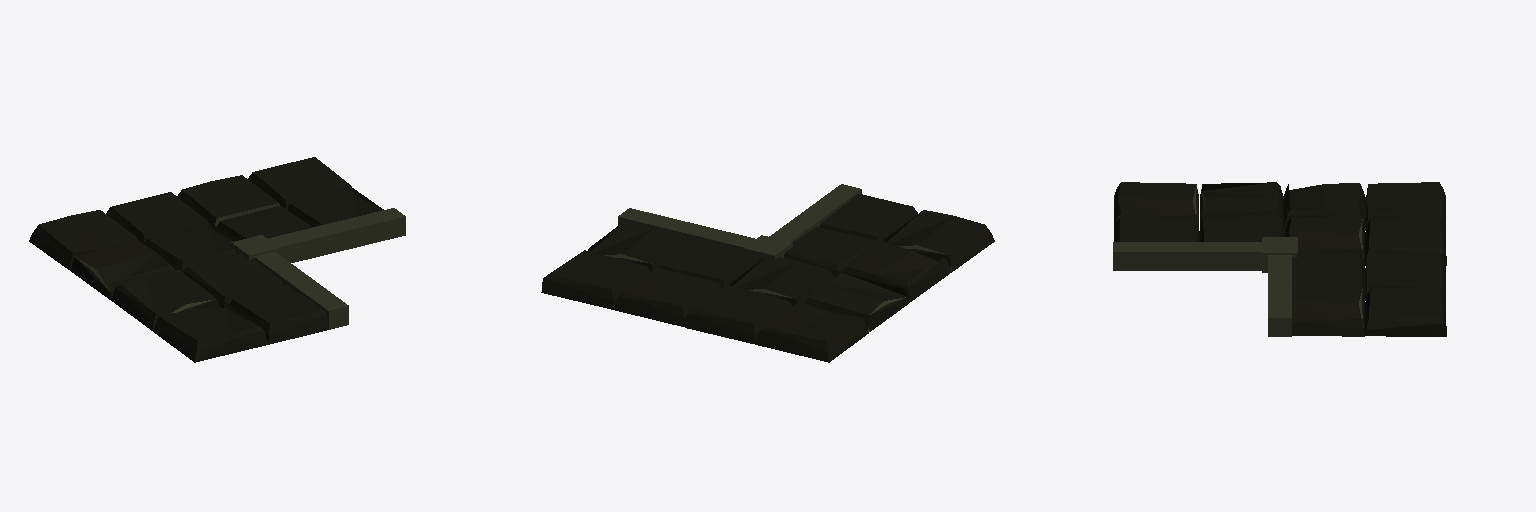
The model's file is Floor_Hole_Corner.obj.
3 views of the same model, side by side, from view 1: azimuth 30°, elevation 25°; view 2: azimuth 150°, elevation 25°; view 3: azimuth 270°, elevation 25° (orthographic).
Visible parts, largest first — view 1: Floor_Hole_Corner_Cube.032; view 2: Floor_Hole_Corner_Cube.032; view 3: Floor_Hole_Corner_Cube.032.
Part boxes in pixels (left/top/right/bottom): Floor_Hole_Corner_Cube.032: left=29, top=157, right=405, bottom=362; Floor_Hole_Corner_Cube.032: left=541, top=184, right=994, bottom=362; Floor_Hole_Corner_Cube.032: left=1113, top=182, right=1446, bottom=336.
Size of the model in its own units: 1.99 by 0.1427 by 2.